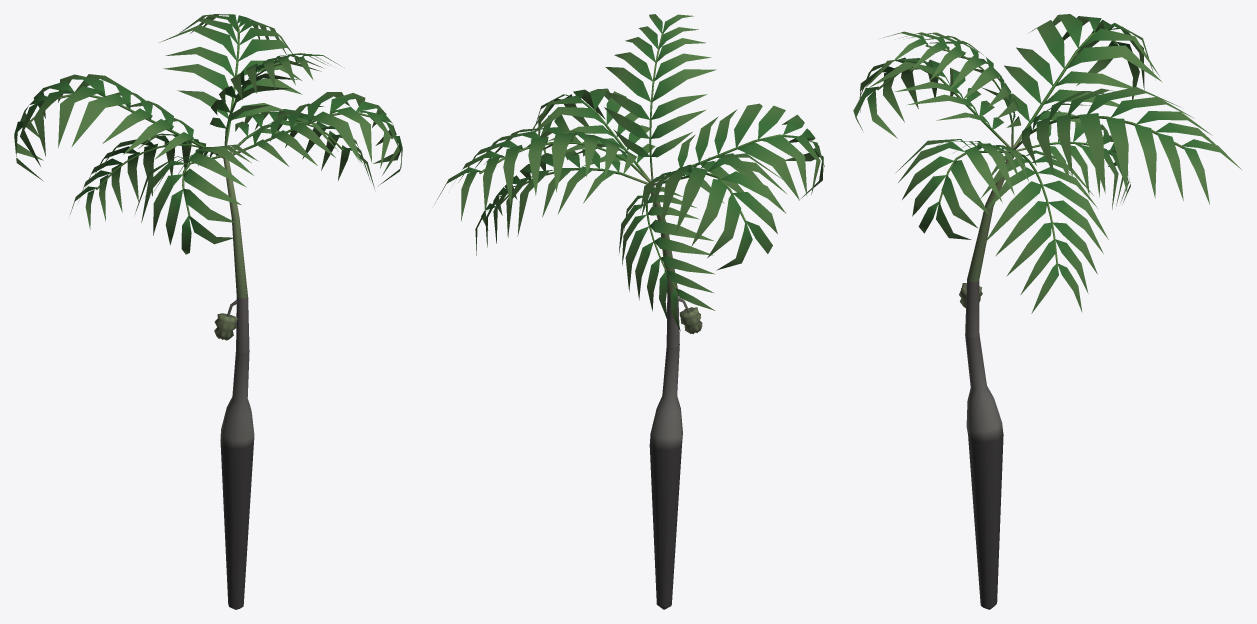
The model's file is trees-palms-ferns-tree-fern_v3.fbx.
3 views of the same model, side by side, from view 1: azimuth 30°, elevation 25°; view 2: azimuth 150°, elevation 25°; view 3: azimuth 270°, elevation 25° (orthographic). The views are drawn at different scales.
Visible parts, largest first — view 1: Tree Fern_v3; view 2: Tree Fern_v3; view 3: Tree Fern_v3.
Part boxes in pixels (x1=…): Tree Fern_v3: x1=14, y1=14, x2=402, y2=609; Tree Fern_v3: x1=435, y1=14, x2=824, y2=609; Tree Fern_v3: x1=853, y1=14, x2=1241, y2=609.
Size of the model in its own units: 2.98 by 5 by 2.98.
